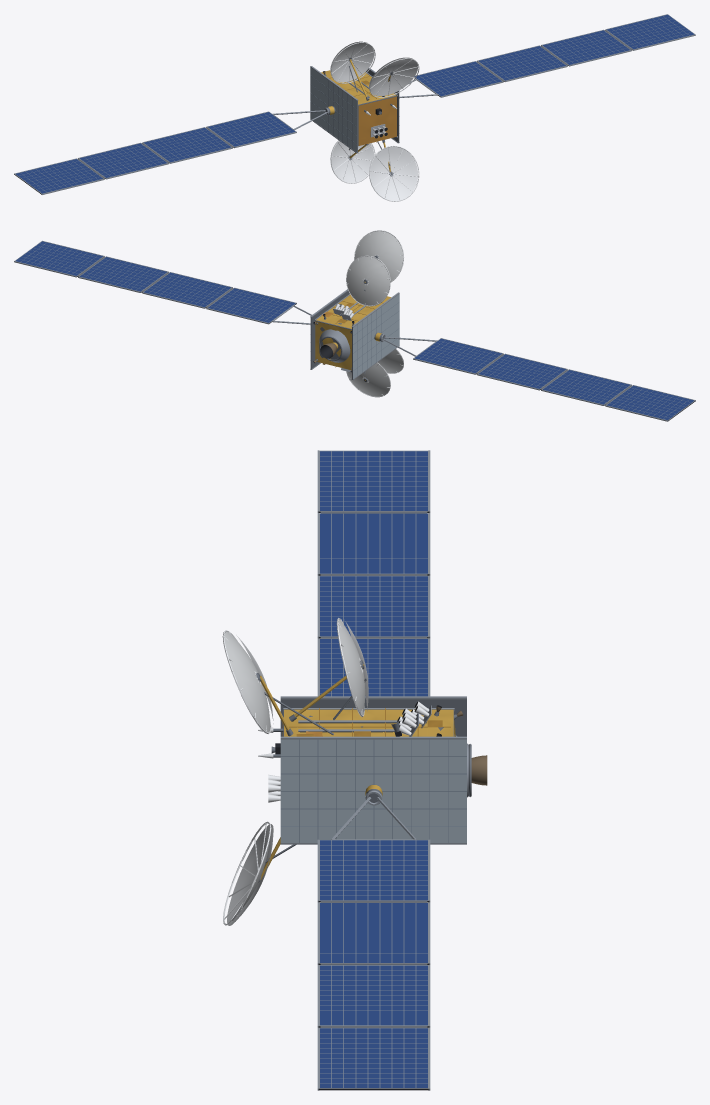
Rendered from bus-spacebus-4000b.glb.
3 renders of one model, top to bottom at view 1: azimuth 30°, elevation 25°; view 2: azimuth 150°, elevation 25°; view 3: azimuth 270°, elevation 25°, orthographic. The views are drawn at different scales.
Parts seen in each view (by area): view 1: body, solar-panel, foil; view 2: body, solar-panel, foil; view 3: solar-panel, body, foil.
Boxes of the visible parts, x1=… form: body: x1=14, y1=14, x2=695, y2=201; solar-panel: x1=16, y1=14, x2=694, y2=193; foil: x1=321, y1=59, x2=396, y2=171; body: x1=14, y1=230, x2=695, y2=421; solar-panel: x1=16, y1=241, x2=694, y2=420; foil: x1=315, y1=282, x2=390, y2=380; solar-panel: x1=320, y1=451, x2=427, y2=1087; body: x1=222, y1=450, x2=487, y2=1090; foil: x1=260, y1=664, x2=455, y2=879.
Size of the model in its own units: 29.98 by 6.25 by 5.25.
